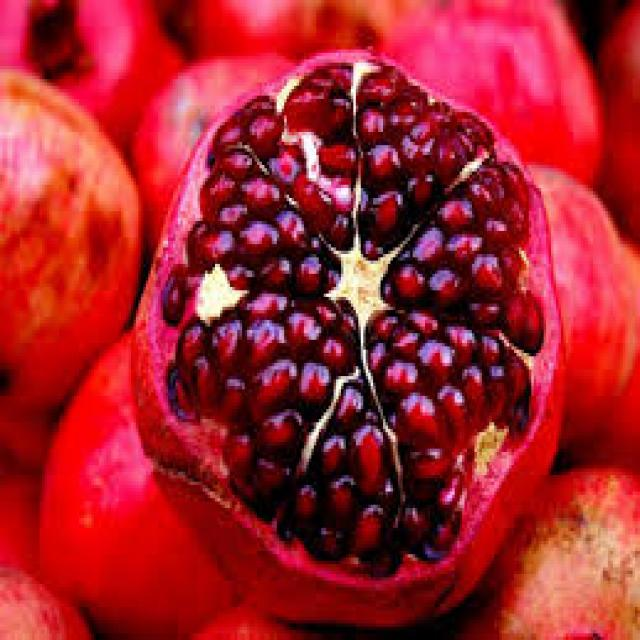organic waste: (126, 39, 568, 634), (39, 323, 228, 627), (0, 66, 143, 406), (360, 0, 600, 181), (507, 155, 638, 465), (121, 36, 299, 261), (460, 462, 638, 637), (0, 0, 180, 125), (160, 0, 376, 56), (0, 395, 59, 590), (590, 0, 638, 234), (0, 564, 101, 636), (178, 597, 336, 637)
